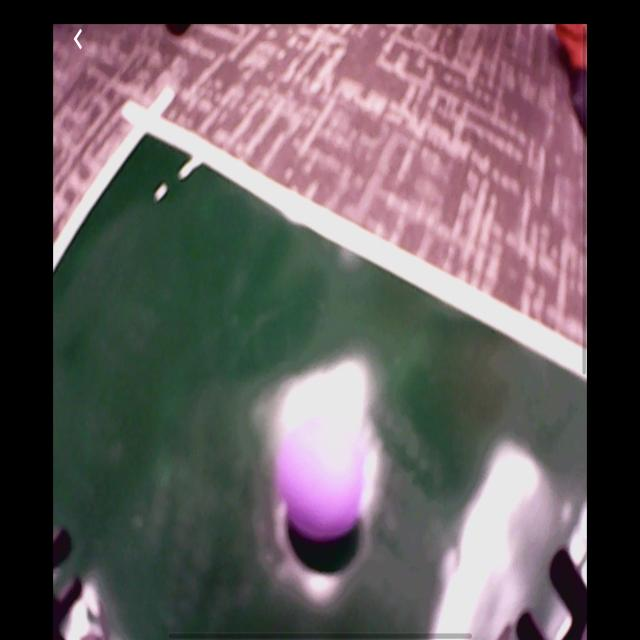ball: (283, 419, 364, 539)
